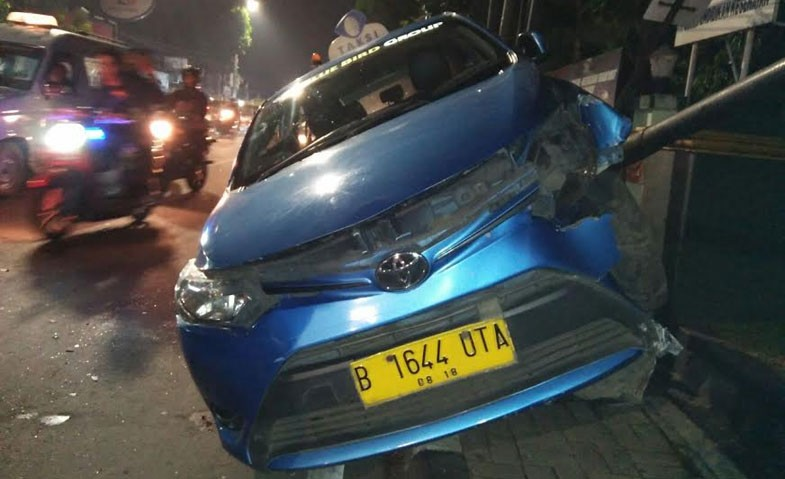plate: (350, 318, 516, 413)
